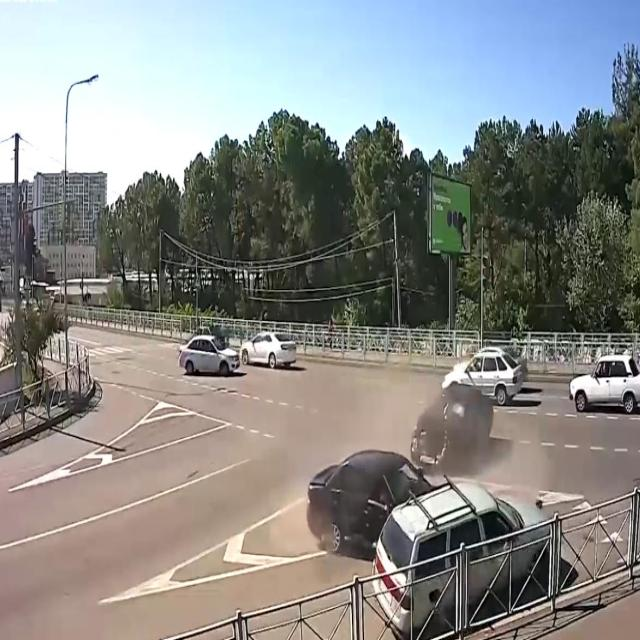accident: (298, 374, 498, 568)
non_accident: (172, 320, 300, 385)
